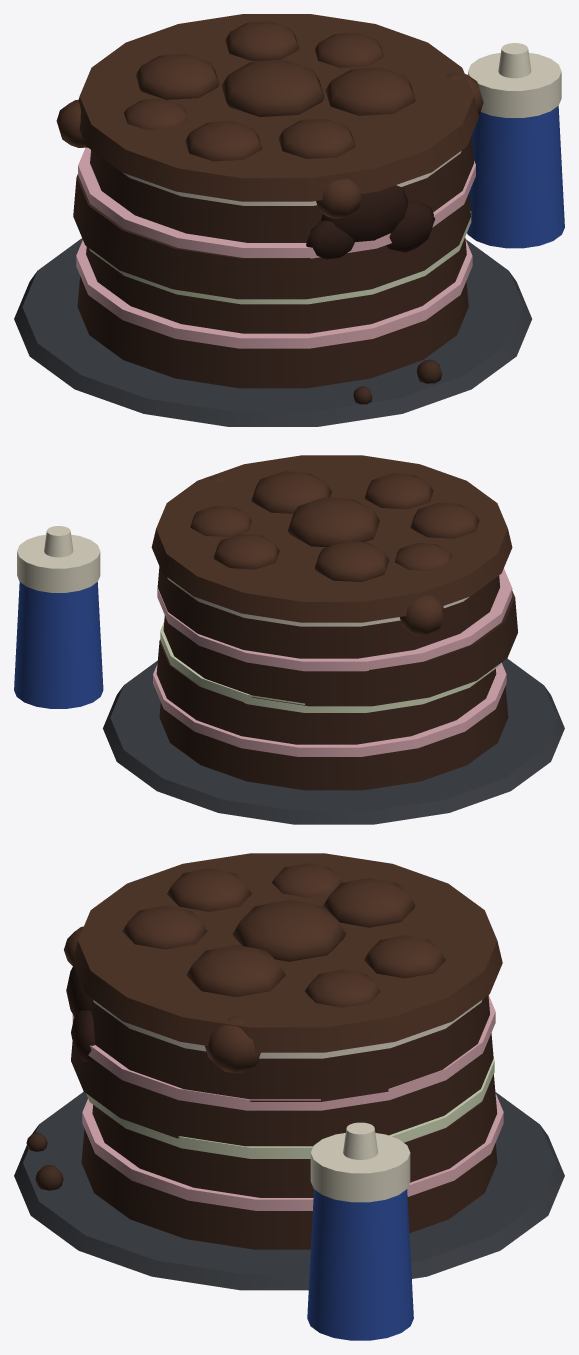
Rendered from spumoni-cake.glb.
3 views of the same model, one above another, from view 1: azimuth 30°, elevation 25°; view 2: azimuth 150°, elevation 25°; view 3: azimuth 270°, elevation 25° (orthographic). The views are drawn at different scales.
Parts seen in each view (by area): view 1: frosting, cake, plate, cupBody, band_0.037, band_0.099, biteGeo, cupLid, band_0.068, seam, crumbs; view 2: frosting, cake, plate, cupBody, band_0.099, band_0.037, cupLid, band_0.068, seam; view 3: frosting, cake, plate, cupBody, cupLid, band_0.037, band_0.099, band_0.068, seam, biteGeo, crumbs.
Boxes of the visible parts, x1,y1,x2,y2 form: frosting: (56,14,483,218); cake: (73,136,473,388); plate: (14,238,531,426); cupBody: (467,106,564,248); band_0.037: (76,240,472,348); band_0.099: (78,147,475,258); biteGeo: (306,185,434,259); cupLid: (468,43,561,117); band_0.068: (89,211,471,304); seam: (122,151,461,205); crumbs: (353,359,442,404); frosting: (151,455,512,635); cake: (156,566,517,790); plate: (103,658,564,824); cupBody: (14,582,103,708); band_0.099: (157,568,512,671); band_0.037: (153,663,506,756); cupLid: (17,526,100,592); band_0.068: (160,621,500,712); seam: (167,577,468,626); frosting: (64,853,502,1073); cake: (71,995,497,1249); plate: (14,1091,564,1290); cupBody: (307,1189,413,1340); cupLid: (310,1122,410,1202); band_0.037: (82,1092,503,1210); band_0.099: (72,995,495,1110); band_0.068: (86,1058,494,1158); seam: (93,999,482,1058); biteGeo: (66,966,95,1062); crumbs: (26,1132,63,1190).
Bounding box in the file's own units: 0.3722 × 0.166 × 0.31.
